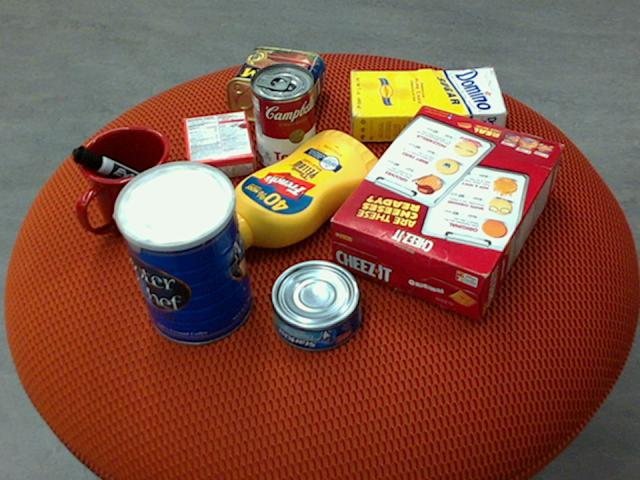cracker_box: (330, 103, 566, 318)
gelatin_box: (182, 109, 254, 183)
large_marker: (70, 146, 173, 203)
master_chef_can: (110, 162, 253, 346)
mug: (77, 125, 177, 235)
mustard_bottle: (209, 129, 383, 252)
potted_meat_can: (226, 46, 326, 127)
sugar_box: (349, 66, 508, 141)
tomato_soup_can: (250, 61, 316, 172)
tuna_fish_can: (271, 260, 363, 352)
